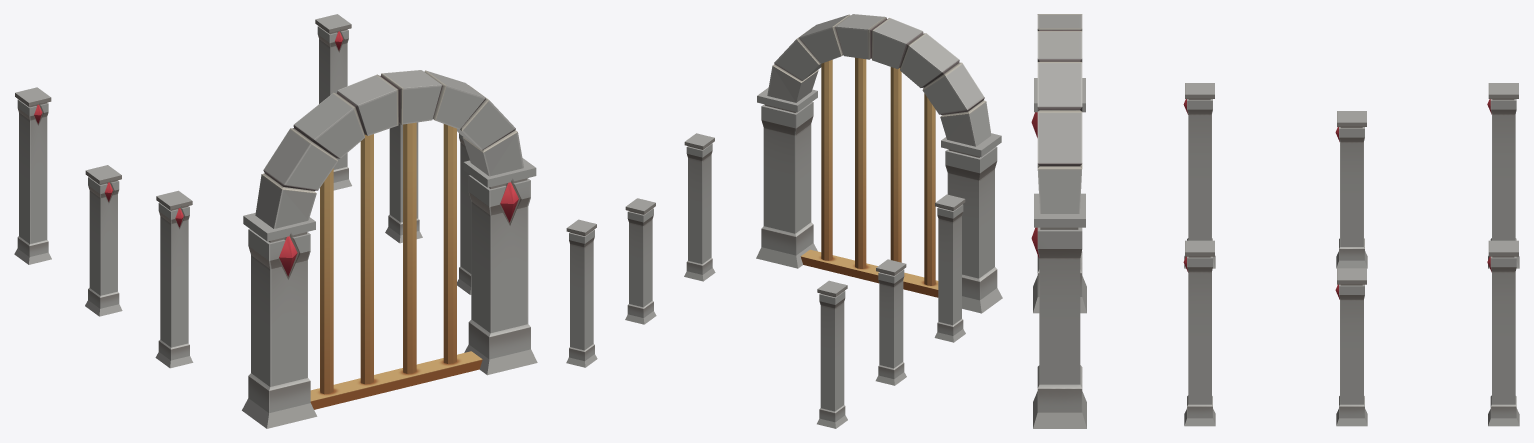
The model's file is door_hera.FBX.
3 renders of one model, left to right at view 1: azimuth 30°, elevation 25°; view 2: azimuth 150°, elevation 25°; view 3: azimuth 270°, elevation 25°, orthographic. The views are drawn at different scales.
Parts seen in each view (by area): view 1: Object071; view 2: Object071; view 3: Object071.
Part boxes in pixels (x1=…): Object071: x1=14, y1=14, x2=537, y2=428; Object071: x1=566, y1=14, x2=1002, y2=428; Object071: x1=1031, y1=14, x2=1519, y2=428.
Size of the model in its own units: 596 by 538 by 725.
